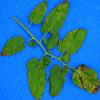Tomato Septoria leaf spot: (26, 51, 48, 99), (43, 0, 70, 37), (71, 62, 100, 96), (47, 64, 72, 99), (57, 28, 87, 56), (1, 33, 26, 59), (28, 0, 48, 27), (46, 33, 60, 50), (37, 56, 53, 69)
